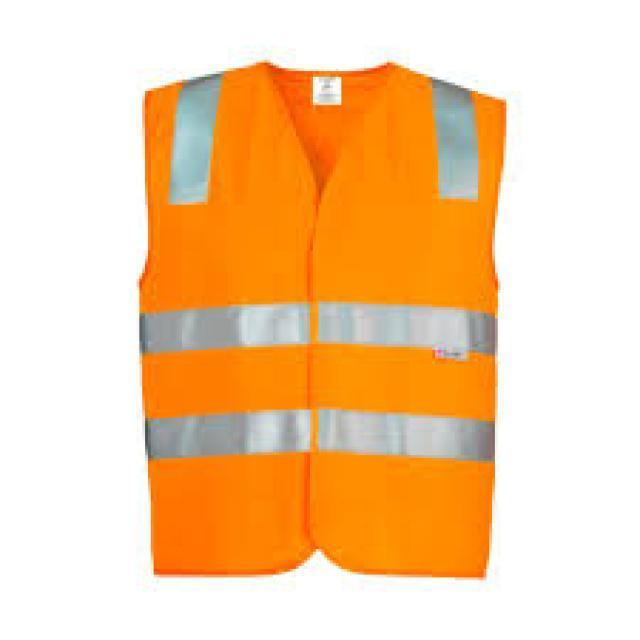Safety Vest: (106, 51, 522, 578)
